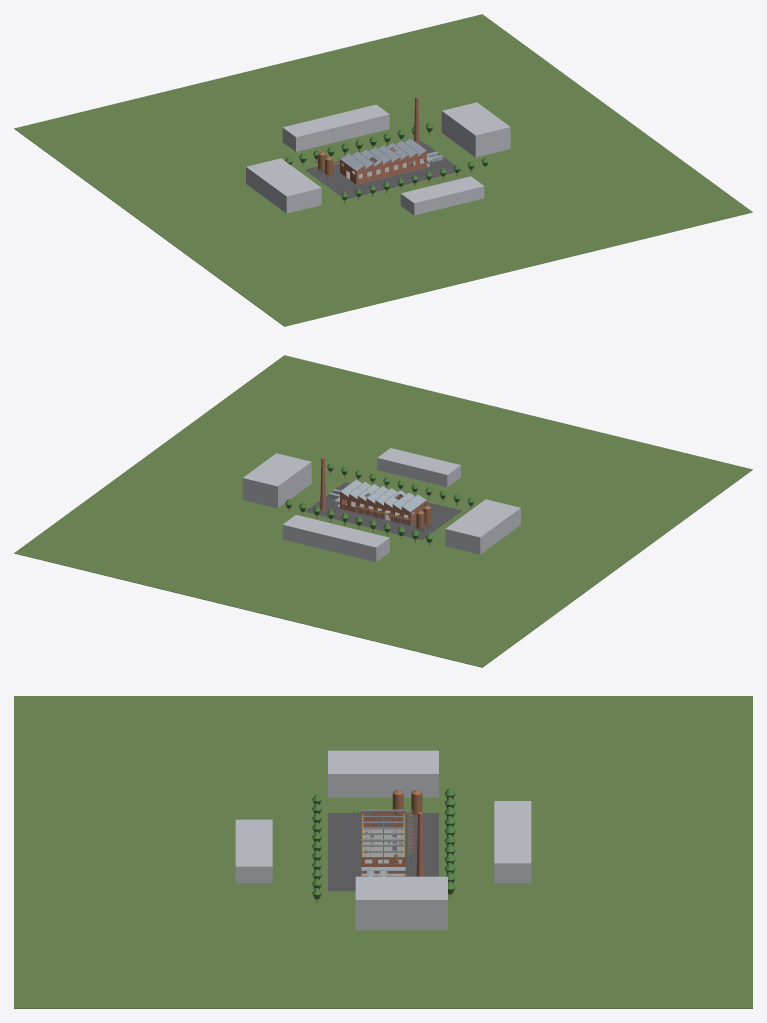
The model's file is bando_b.glb.
3 renders of one model, top to bottom at view 1: azimuth 30°, elevation 25°; view 2: azimuth 150°, elevation 25°; view 3: azimuth 270°, elevation 25°, orthographic. The views are drawn at different scales.
Parts seen in each view (by area): view 1: far_ground, far_ground_003, far_ground_002, far_ground_001, block_002, block_001, block, block_003, yard; view 2: far_ground_003, far_ground, far_ground_001, far_ground_002, block_002, block, block_001, block_003, yard_003; view 3: far_ground, far_ground_003, far_ground_002, far_ground_001, block, block_001, block_002, yard, block_003, yard_003, hall_floor_003.
Boxes of the visible parts, box(x1,y1,x2,y2) form: far_ground: box(169, 128, 752, 326); far_ground_003: box(14, 14, 596, 212); far_ground_002: box(422, 98, 637, 170); far_ground_001: box(129, 170, 342, 242); block_002: box(282, 104, 389, 151); block_001: box(441, 102, 510, 157); block: box(246, 158, 321, 213); block_003: box(400, 176, 484, 215); yard: box(333, 162, 461, 198); far_ground_003: box(14, 469, 597, 667); far_ground: box(170, 355, 752, 553); far_ground_001: box(422, 511, 637, 583); far_ground_002: box(129, 439, 344, 511); block_002: box(282, 515, 389, 561); block: box(445, 499, 520, 554); block_001: box(242, 453, 311, 508); block_003: box(377, 448, 460, 487); yard_003: box(305, 503, 433, 540); far_ground: box(14, 696, 327, 1008); far_ground_003: box(439, 696, 752, 1008); far_ground_002: box(328, 891, 438, 1008); far_ground_001: box(328, 696, 438, 812); block: box(328, 750, 438, 797); block_001: box(355, 876, 447, 930); block_002: box(494, 801, 531, 883); yard: box(328, 813, 360, 891); block_003: box(235, 819, 272, 883); yard_003: box(406, 813, 438, 876); hall_floor_003: box(373, 829, 403, 873).
Bounding box in the file's own units: 400 × 43.55 × 400.
